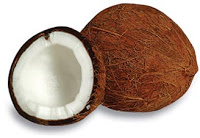coconut: (87, 5, 198, 110), (8, 26, 103, 124)
